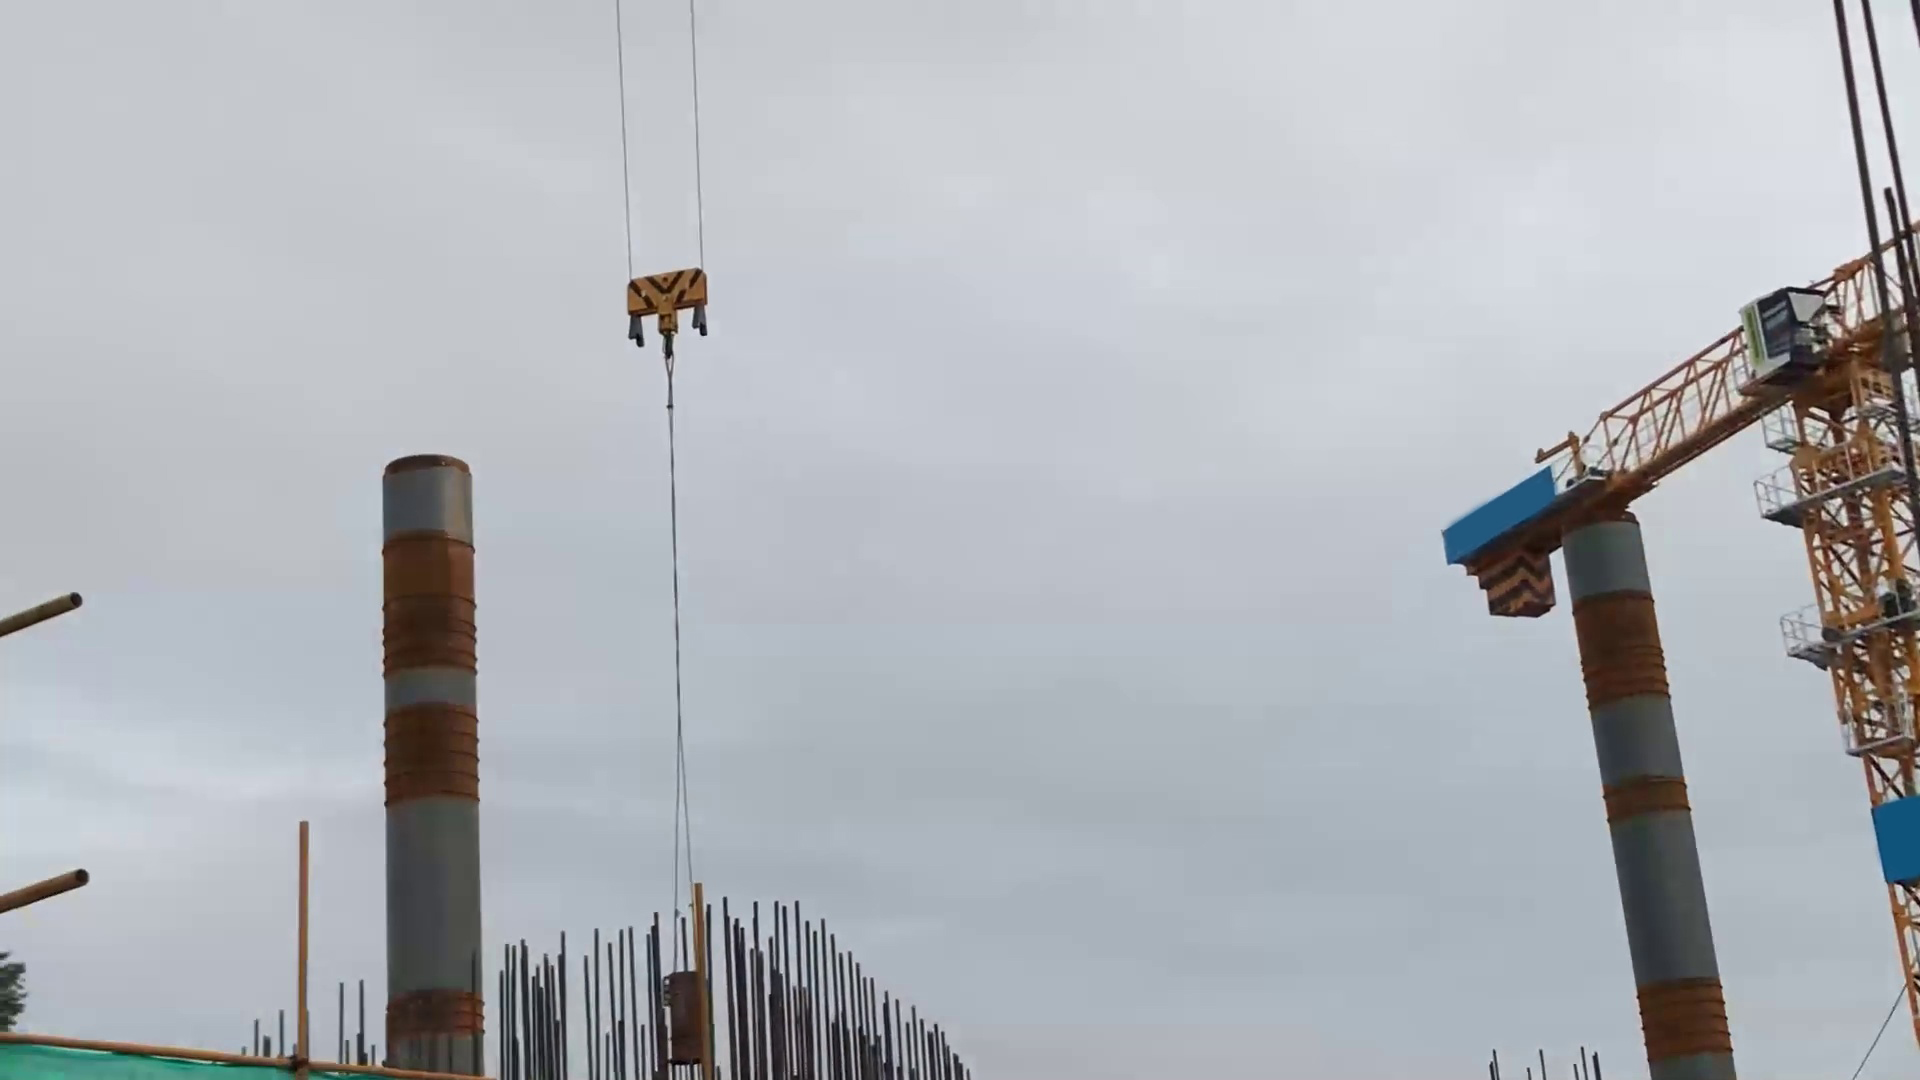hook: (622, 260, 709, 361)
